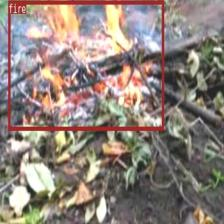fire: (7, 0, 163, 130)
